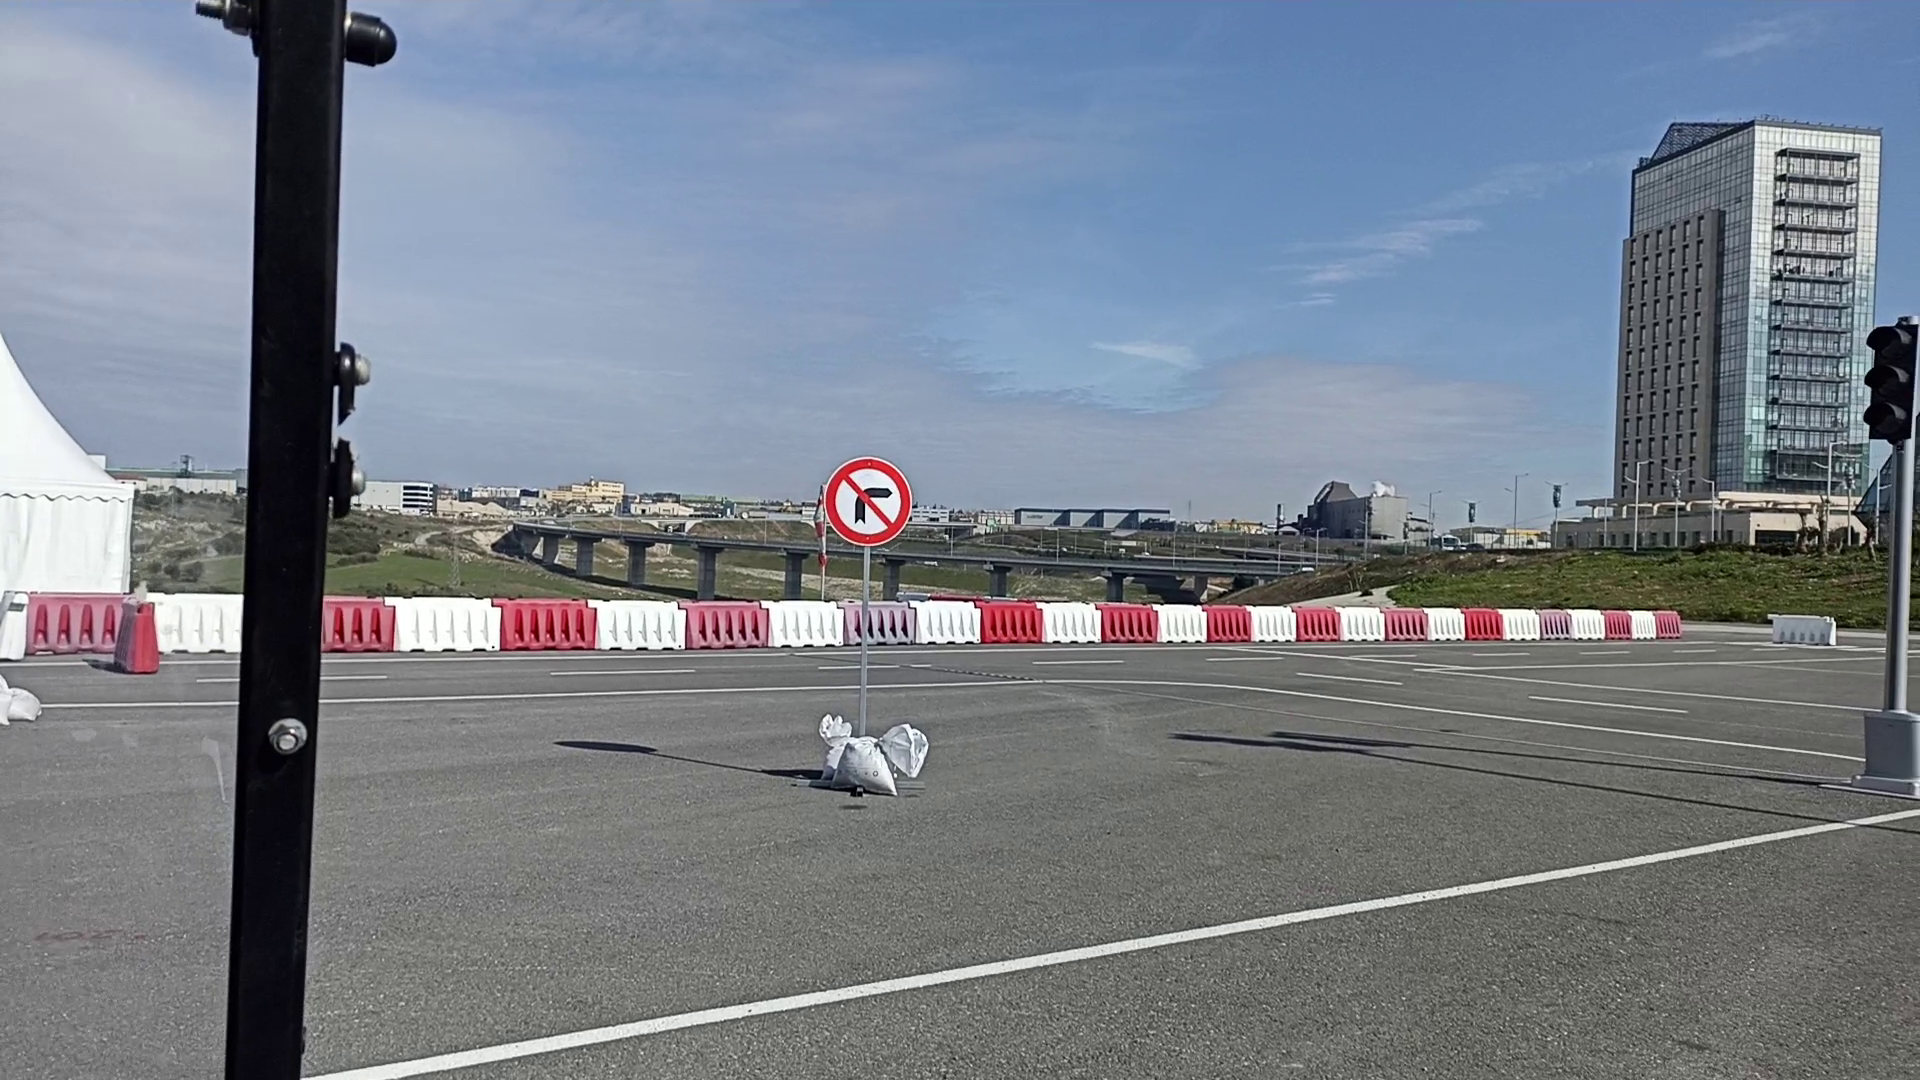noleftturn: (822, 454, 913, 549)
trafficlight: (1861, 311, 1920, 439)
